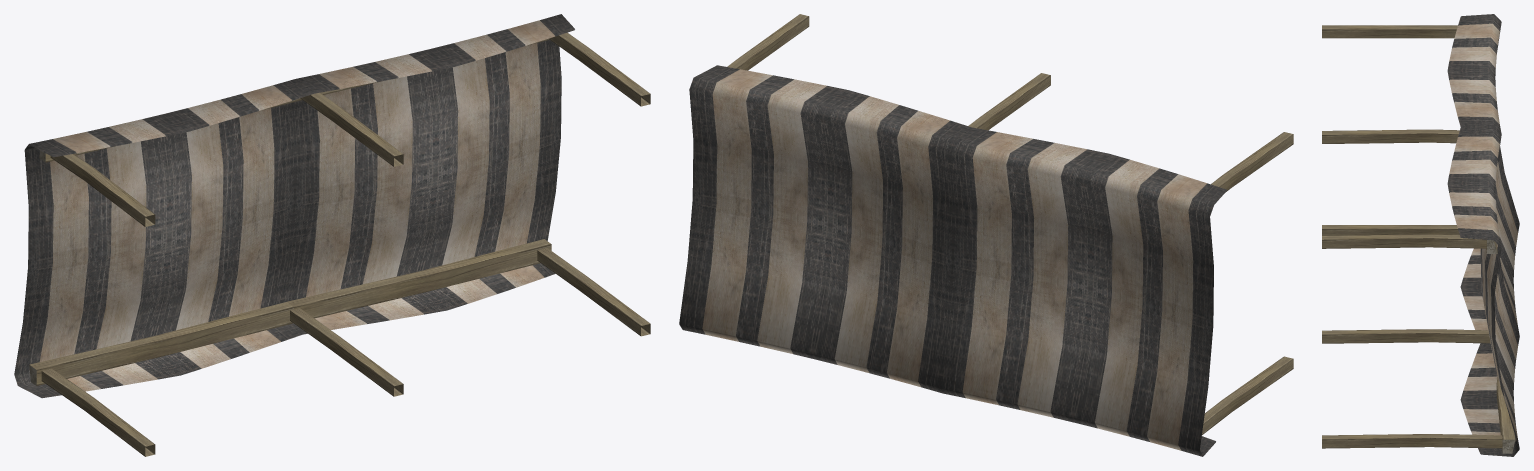
Rendered from Merchant_Tent_Type_01_B.fbx.
The picture shows the model from 3 angles, left to right: view 1: azimuth 30°, elevation 25°; view 2: azimuth 150°, elevation 25°; view 3: azimuth 270°, elevation 25°; orthographic projection. The views are drawn at different scales.
Parts seen in each view (by area): view 1: Merchant_Tent_Type_01_B; view 2: Merchant_Tent_Type_01_B; view 3: Merchant_Tent_Type_01_B.
Boxes of the visible parts, x1,y1,x2,y2 form: Merchant_Tent_Type_01_B: (14, 14, 650, 456); Merchant_Tent_Type_01_B: (679, 14, 1293, 456); Merchant_Tent_Type_01_B: (1322, 14, 1519, 456).
Bounding box in the file's own units: 10.52 × 4.73 × 3.89.
